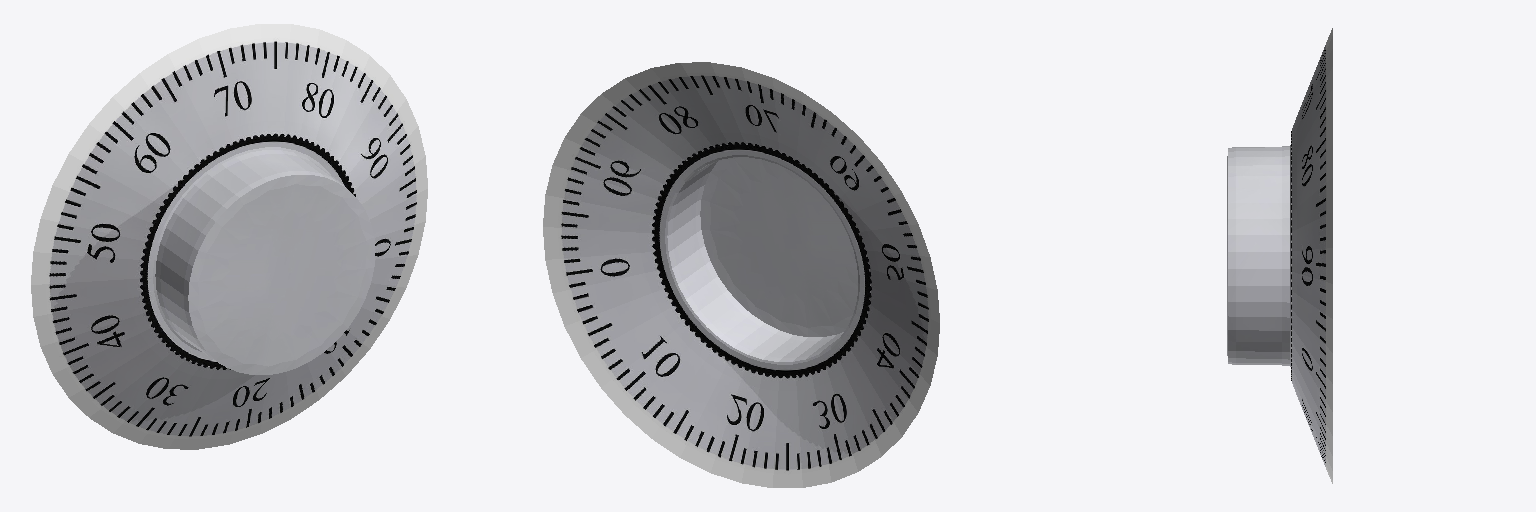
3 renders of one model, left to right at view 1: azimuth 30°, elevation 25°; view 2: azimuth 150°, elevation 25°; view 3: azimuth 270°, elevation 25°, orthographic.
Visible parts, largest first — view 1: imagetostl_mesh0.001_Material.001; view 2: imagetostl_mesh0.001_Material.001; view 3: imagetostl_mesh0.001_Material.001.
Boxes of the visible parts, x1,y1,x2,y2 form: imagetostl_mesh0.001_Material.001: [31, 24, 427, 449]; imagetostl_mesh0.001_Material.001: [543, 62, 939, 487]; imagetostl_mesh0.001_Material.001: [1227, 28, 1332, 483].
Size of the model in its own units: 0.7812 by 0.7812 by 0.1802.
1 materials, 1 textured.